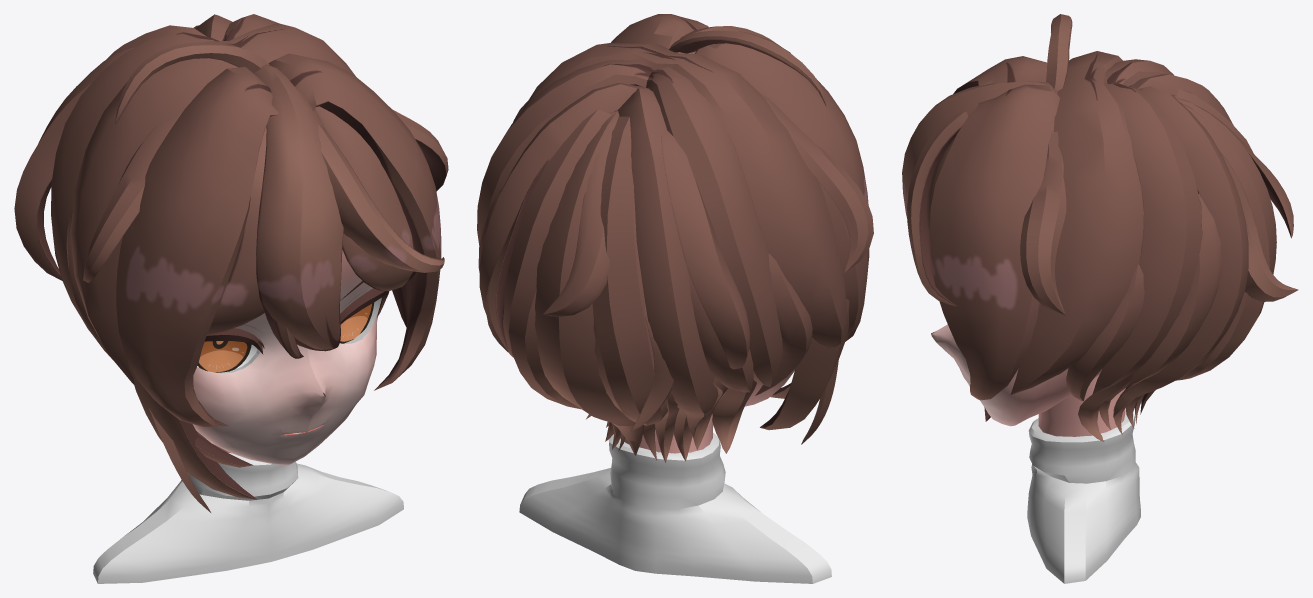
File: hajin0106.fbx
3 views of the same model, side by side, from view 1: azimuth 30°, elevation 25°; view 2: azimuth 150°, elevation 25°; view 3: azimuth 270°, elevation 25° (orthographic). The views are drawn at different scales.
Visible parts, largest first — view 1: hair, cloth2:Group10566, face1; view 2: hair, cloth2:Group10566, face1; view 3: hair, cloth2:Group10566, face1.
Boxes of the visible parts, x1,y1,x2,y2 form: hair: [14, 14, 448, 512]; cloth2:Group10566: [93, 453, 403, 583]; face1: [192, 250, 389, 465]; hair: [477, 14, 873, 462]; cloth2:Group10566: [519, 433, 831, 583]; face1: [620, 369, 794, 453]; hair: [902, 14, 1298, 441]; cloth2:Group10566: [1027, 408, 1140, 583]; face1: [931, 324, 1125, 436].
Size of the model in its own units: 23.76 by 32.88 by 25.51.
